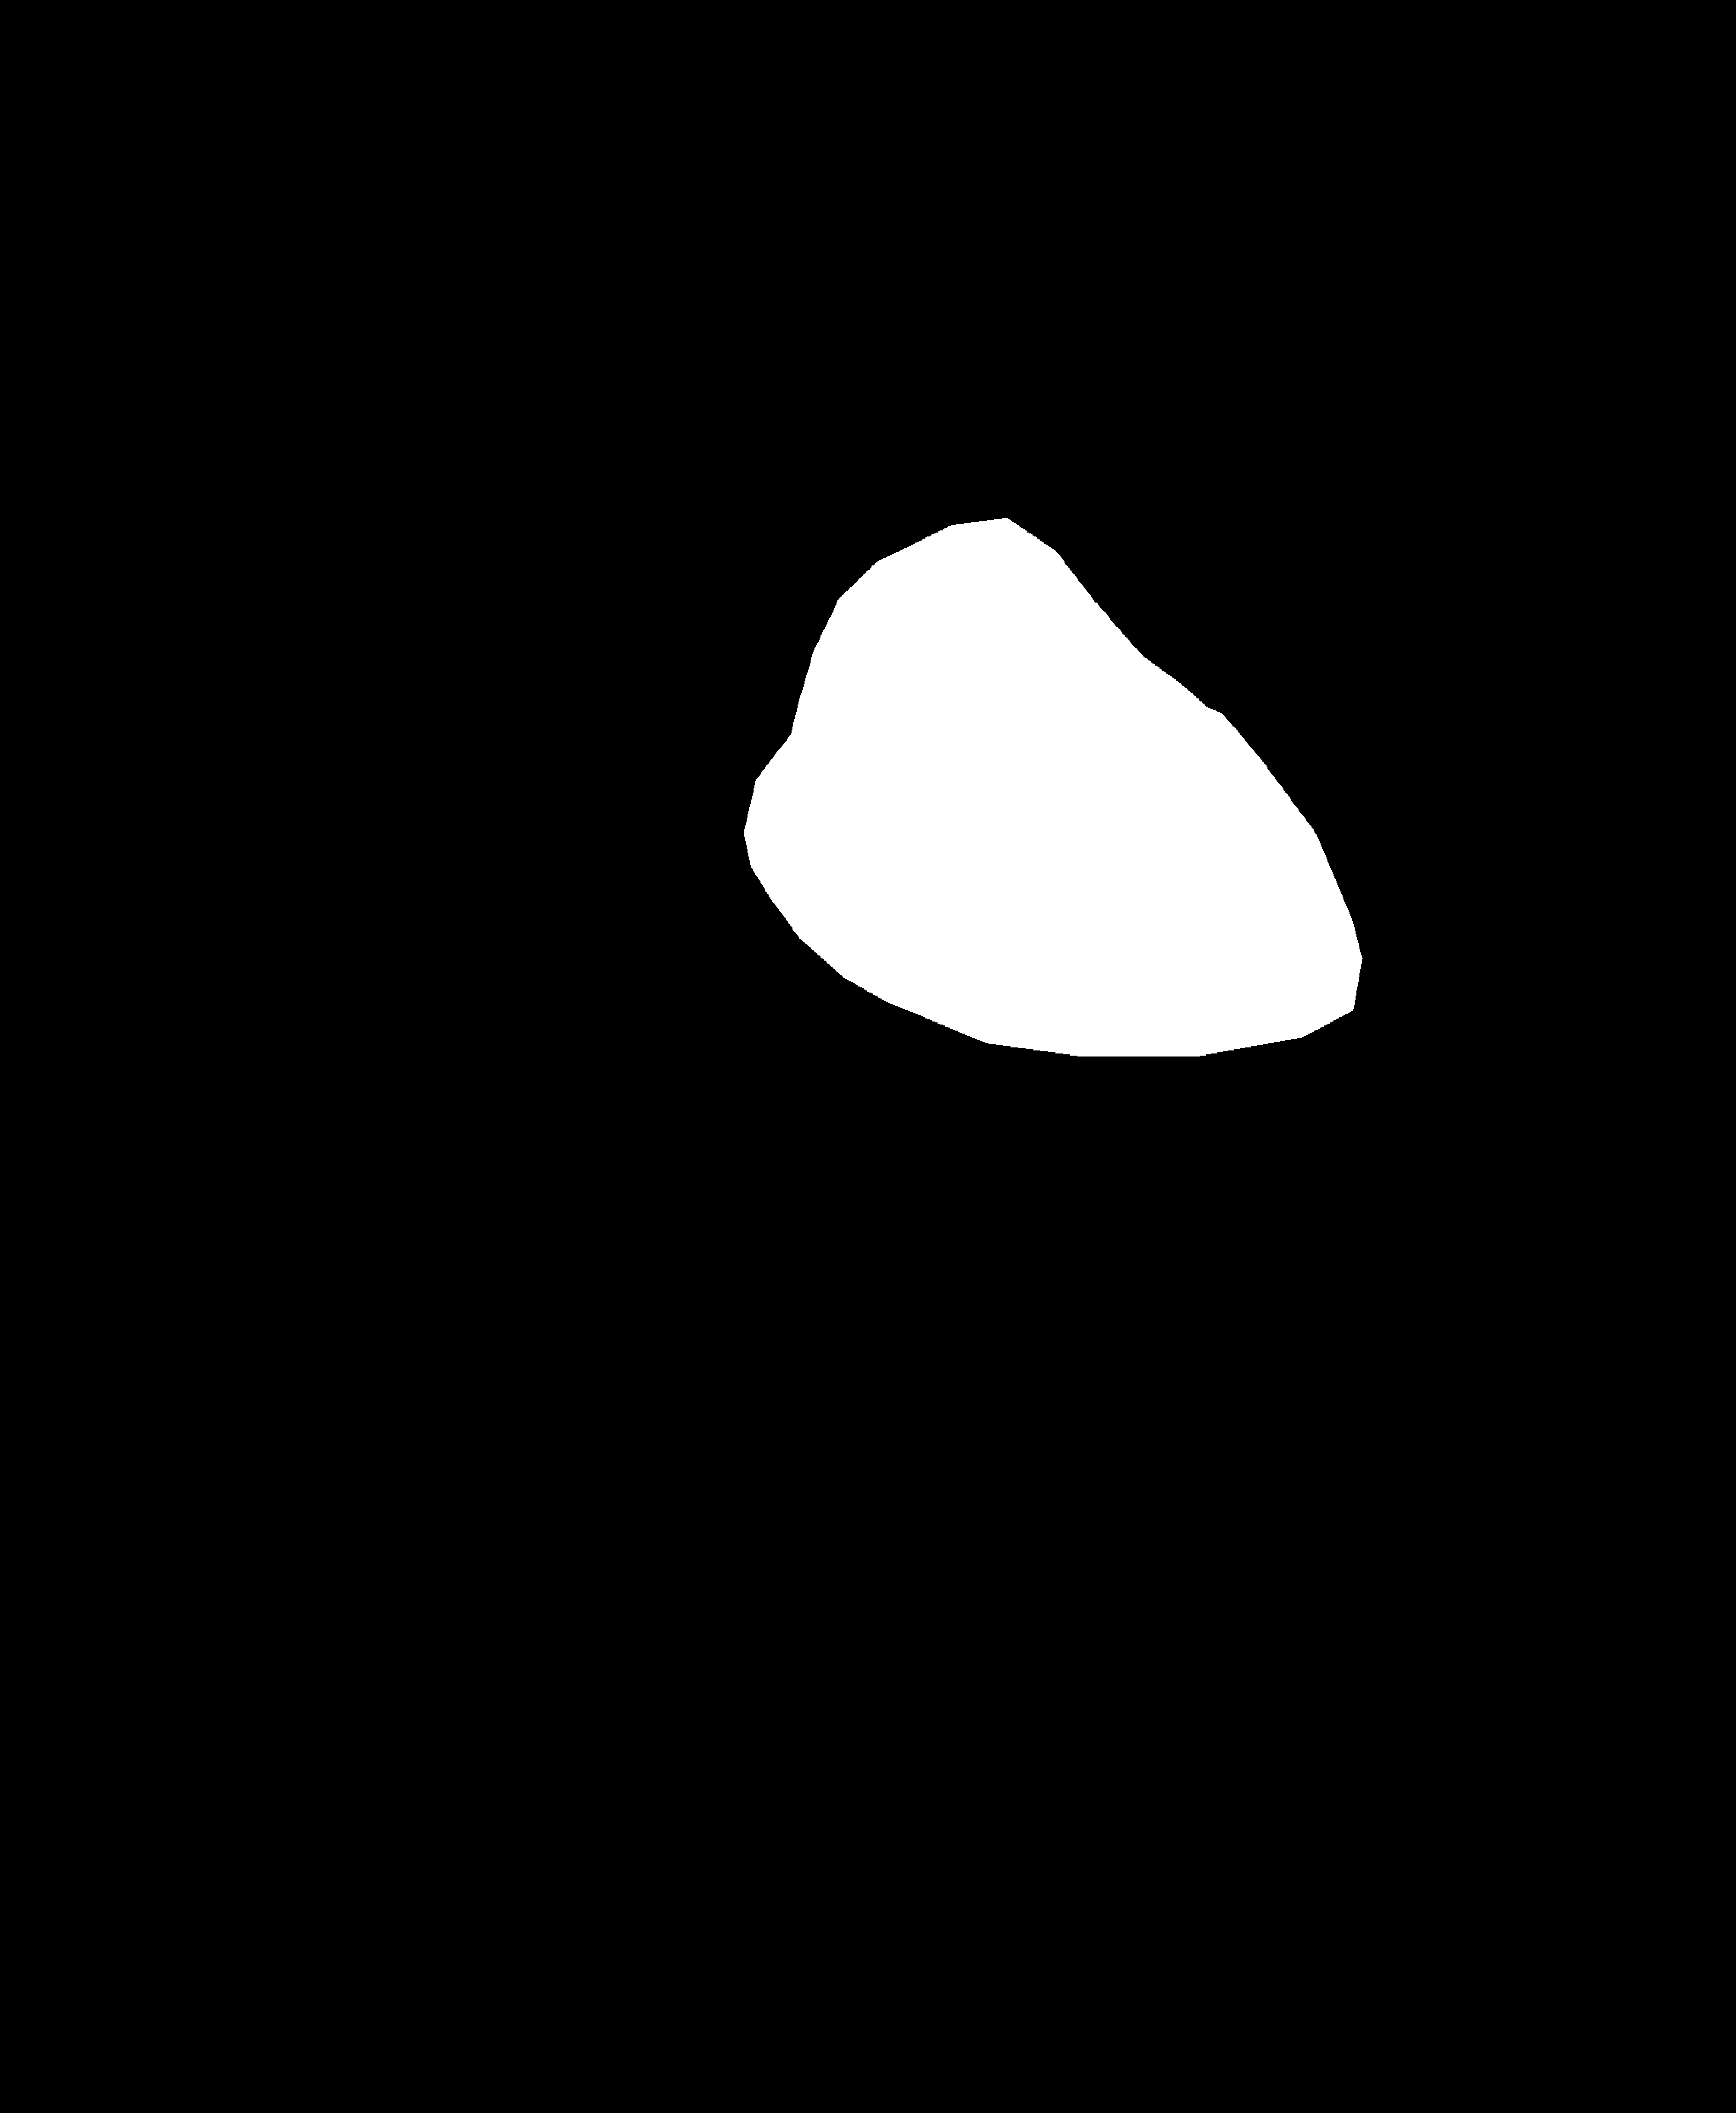heart: (748, 534, 1360, 1067)
left_lung: (314, 133, 830, 1104)
right_lung: (944, 95, 1504, 1139)
